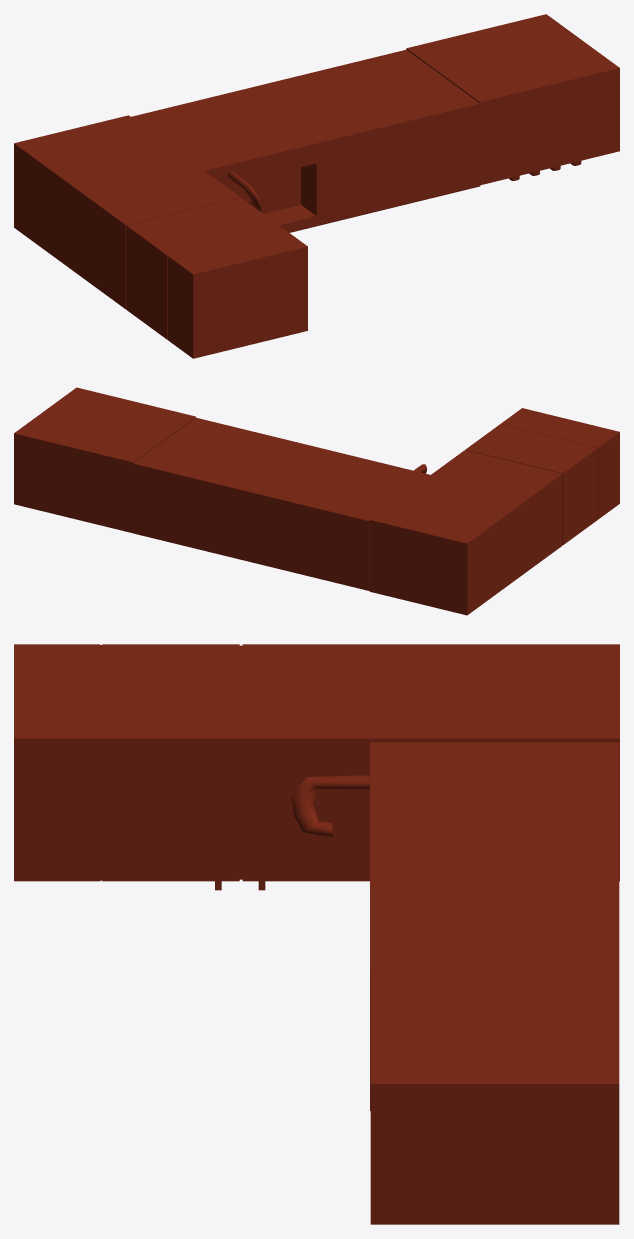
Rendered from Counters.obj.
The picture shows the model from 3 angles, top to bottom: view 1: azimuth 30°, elevation 25°; view 2: azimuth 150°, elevation 25°; view 3: azimuth 270°, elevation 25°; orthographic projection. The views are drawn at different scales.
Bounding box in the file's own units: 4.37 × 0.7492 × 2.55.
